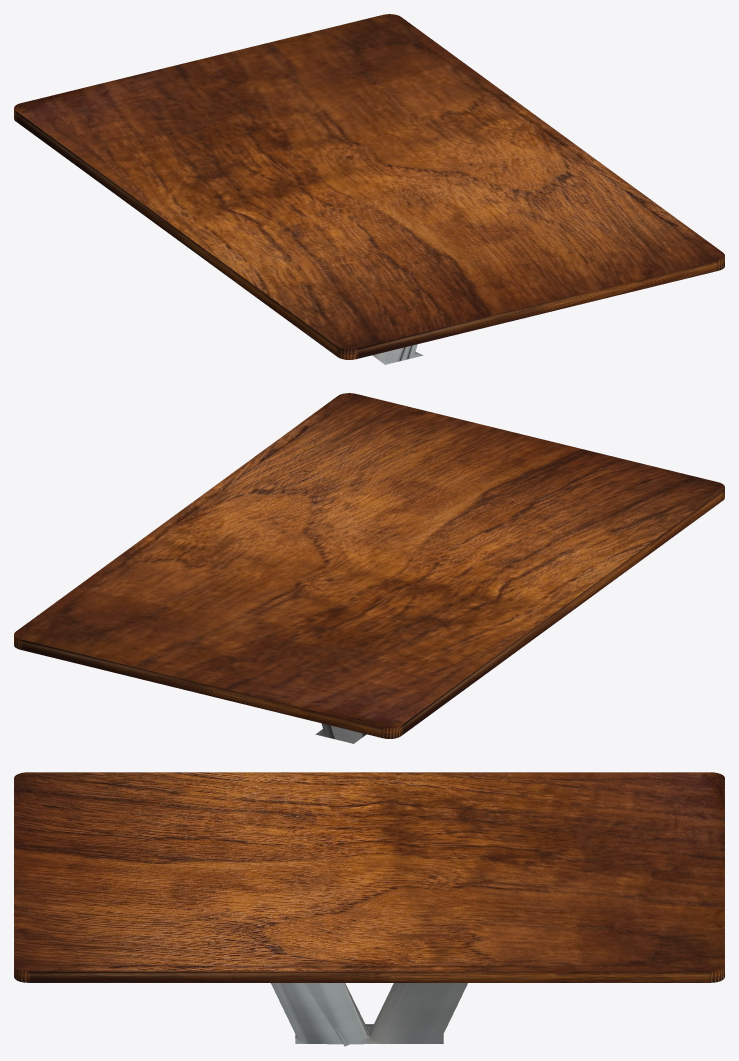
Rendered from glass_table.obj.
3 views of the same model, one above another, from view 1: azimuth 30°, elevation 25°; view 2: azimuth 150°, elevation 25°; view 3: azimuth 270°, elevation 25° (orthographic). The views are drawn at different scales.
Visible parts, largest first — view 1: Cube.001; view 2: Cube.001; view 3: Cube.001, Cube.002.
Boxes of the visible parts, x1,y1,x2,y2 form: Cube.001: (14,14,724,359); Cube.001: (14,393,724,738); Cube.001: (14,772,724,982); Cube.002: (271,983,467,1046).
Bounding box in the file's own units: 3.34 × 1.29 × 5.04.
